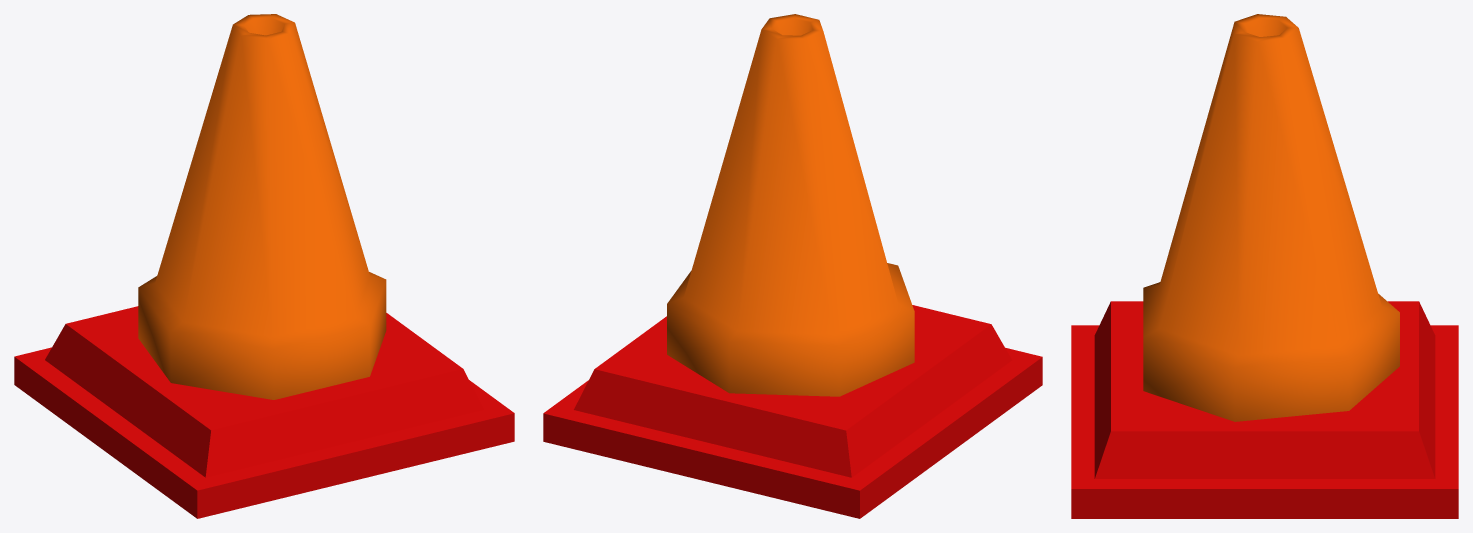
The picture shows the model from 3 angles, left to right: view 1: azimuth 30°, elevation 25°; view 2: azimuth 150°, elevation 25°; view 3: azimuth 270°, elevation 25°; orthographic projection. The views are drawn at different scales.
Visible parts, largest first — view 1: Cone; view 2: Cone; view 3: Cone.
Boxes of the visible parts, <box> form: Cone: <box>14,14,514,518</box>; Cone: <box>543,14,1042,518</box>; Cone: <box>1071,14,1458,518</box>.
Size of the model in its own units: 5.2 by 6.06 by 5.2.
